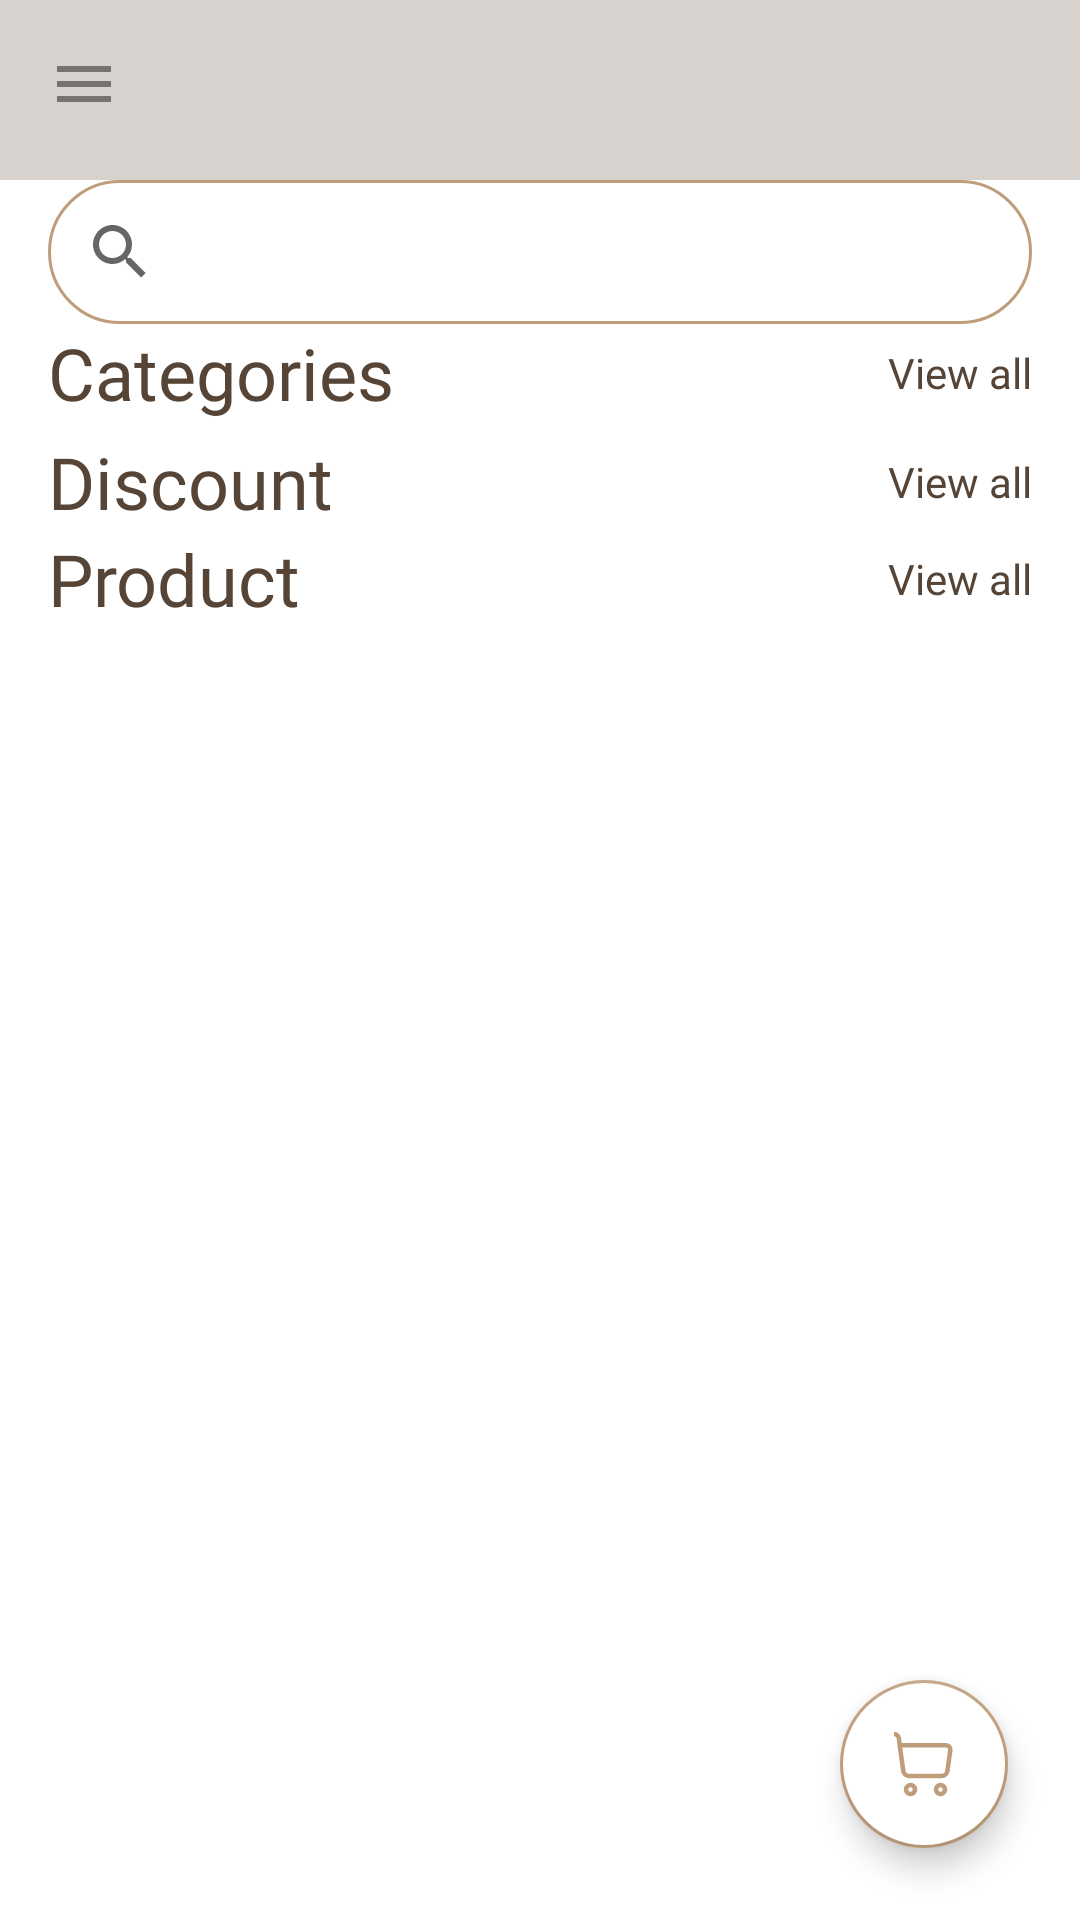

Icon click points for this 1080px×1920px phone screenshot, format [x,y]:
cart: [924,1764]
